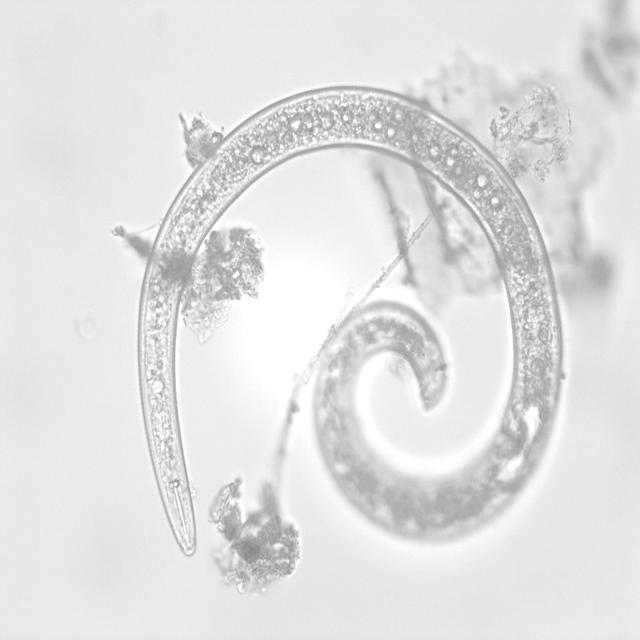Helicotylenchus: (123, 79, 568, 573)
